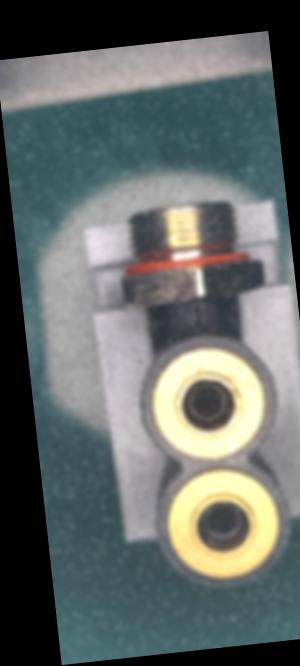craze: (189, 297, 206, 331)
